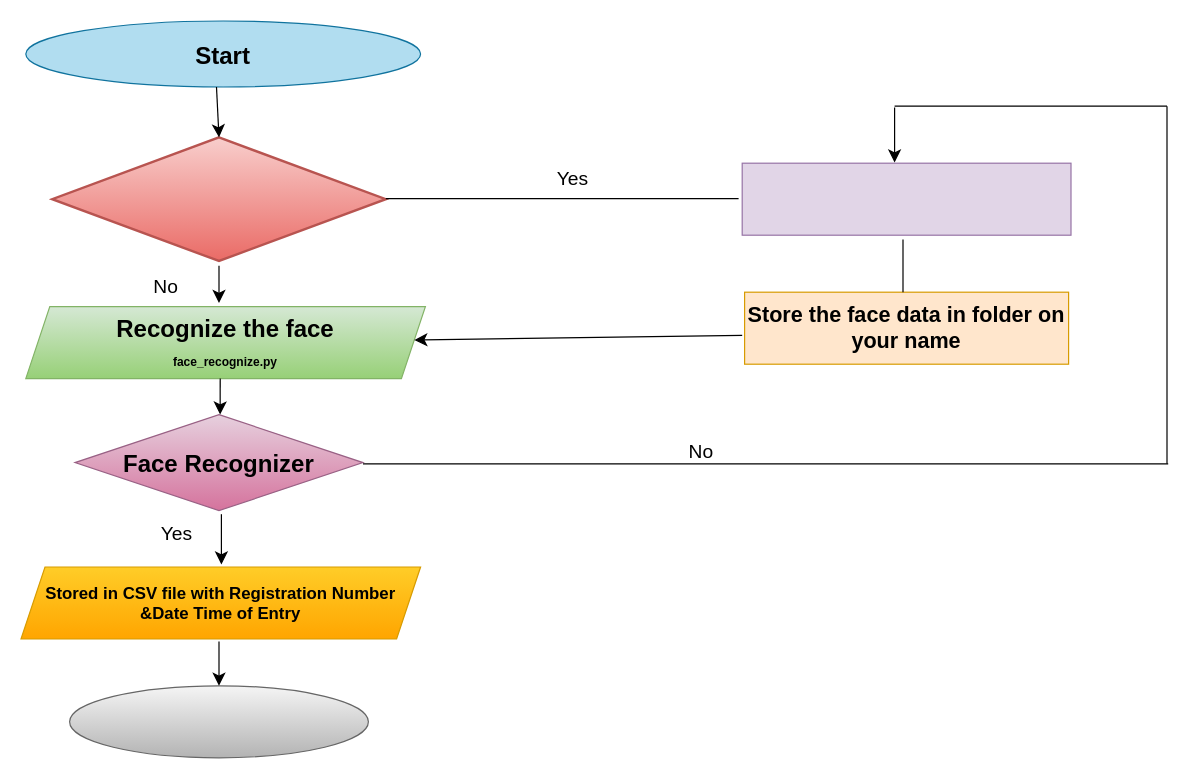
Image size: 1190x779. Some labels were removed from this diagram. The centre of each missing label's shape, as x and y in pixels:
"End" goes at point (218, 721).
"Give your photograpy" goes at point (906, 198).
"New User? run create_dataset.py" goes at point (218, 199).
